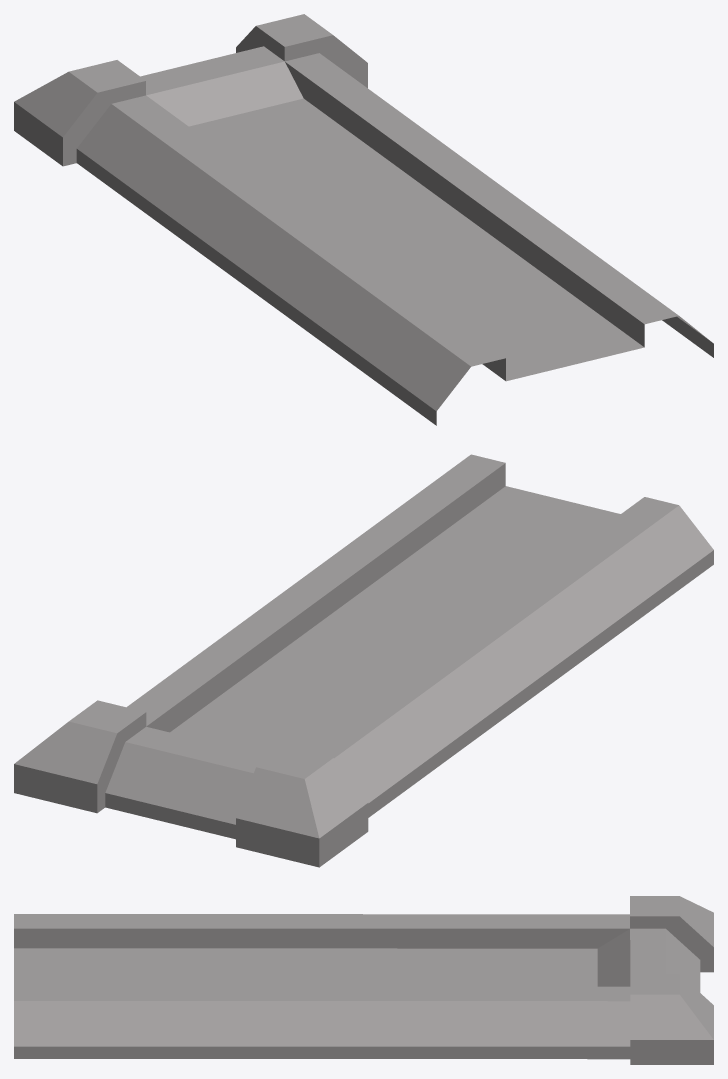
Rendered from FloorRailEndCap.fbx.
3 renders of one model, top to bottom at view 1: azimuth 30°, elevation 25°; view 2: azimuth 150°, elevation 25°; view 3: azimuth 270°, elevation 25°, orthographic. The views are drawn at different scales.
Parts seen in each view (by area): view 1: FloorRailEndCap; view 2: FloorRailEndCap; view 3: FloorRailEndCap.
Part boxes in pixels (x1,y1,x2,y2): FloorRailEndCap: (14, 14, 713, 425); FloorRailEndCap: (14, 454, 713, 867); FloorRailEndCap: (14, 896, 713, 1064).
Size of the model in its own units: 44.01 by 9.01 by 102.
